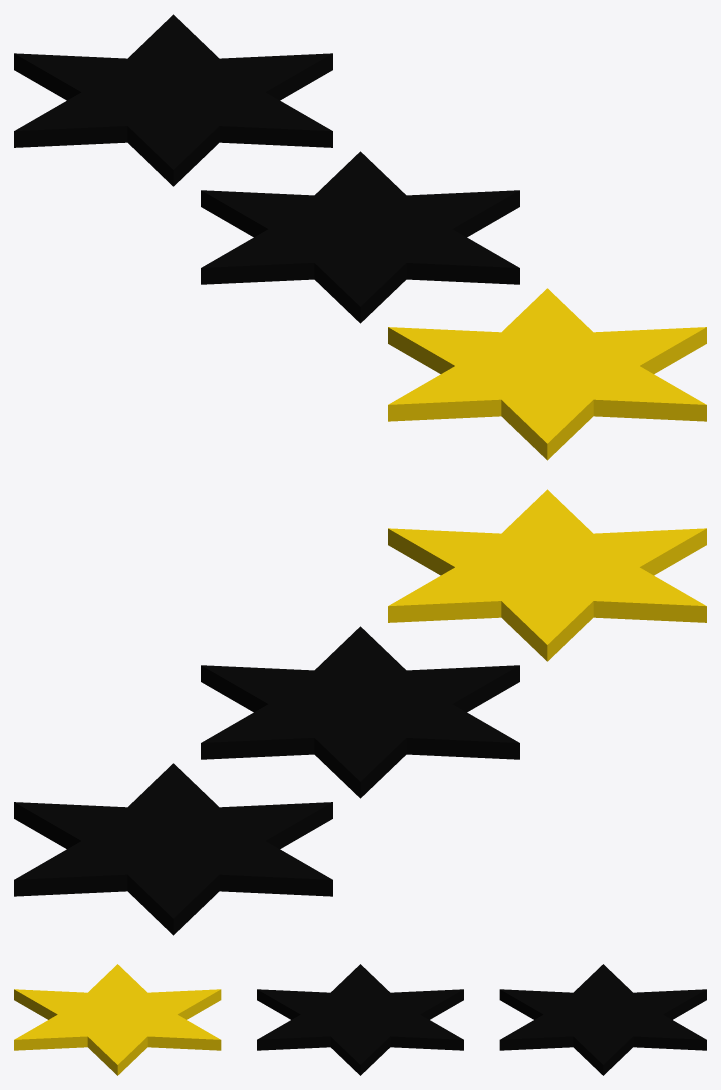
File: Stars_01.FBX
The picture shows the model from 3 angles, top to bottom: view 1: azimuth 30°, elevation 25°; view 2: azimuth 150°, elevation 25°; view 3: azimuth 270°, elevation 25°; orthographic projection. The views are drawn at different scales.
Parts seen in each view (by area): view 1: Stars_01; view 2: Stars_01; view 3: Stars_01.
Part boxes in pixels (x1,y1,x2,y2): Stars_01: (14, 14, 706, 460); Stars_01: (14, 489, 706, 935); Stars_01: (14, 964, 706, 1075).
Size of the model in its own units: 100 by 5 by 290.
